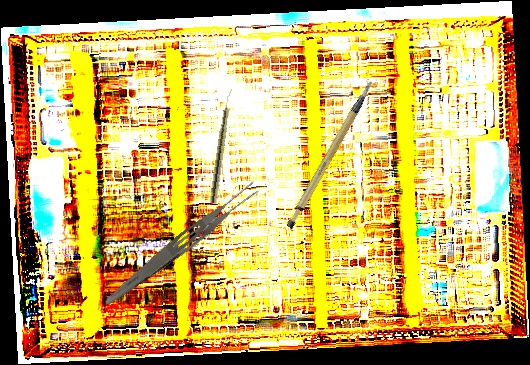Dressing Forceps: (100, 176, 264, 315)
Handpiece: (209, 88, 234, 204)
Scalpel Handle: (267, 80, 396, 231)
